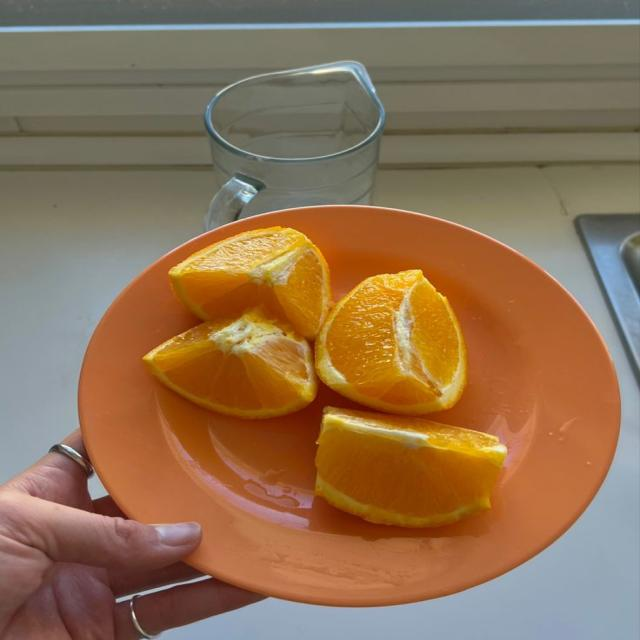orange: (315, 408, 506, 527), (316, 270, 466, 414), (143, 309, 317, 418), (169, 227, 332, 338)
